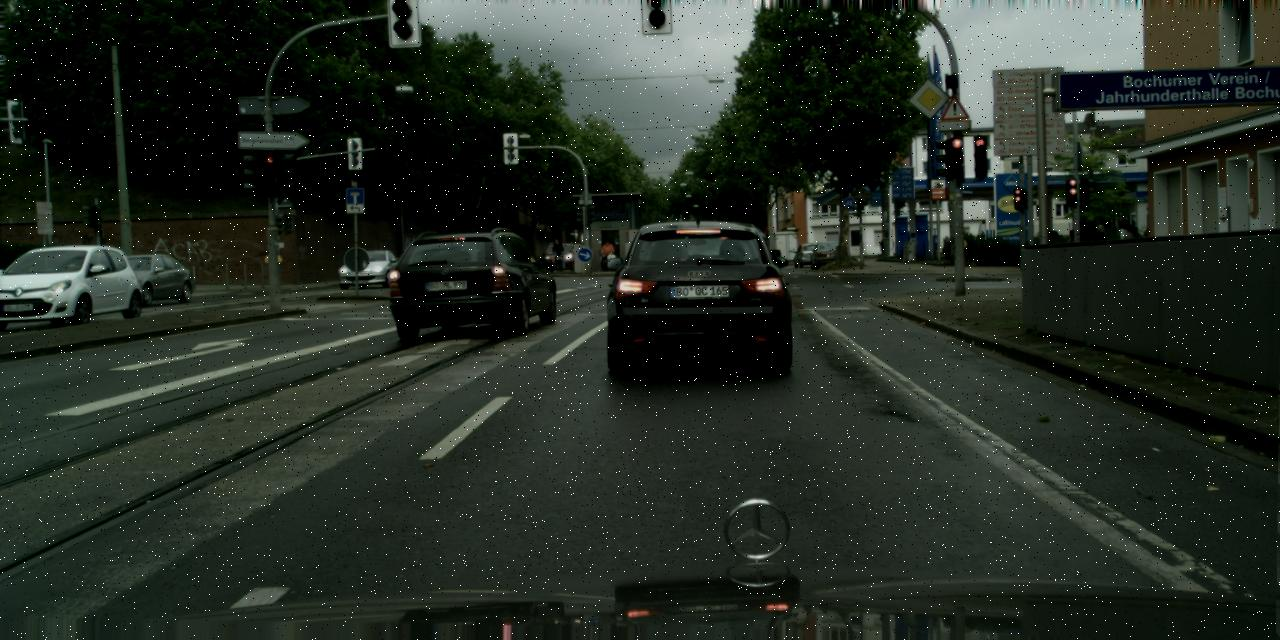ped: (1089, 224, 1110, 277), (551, 239, 564, 269), (600, 242, 612, 270)
